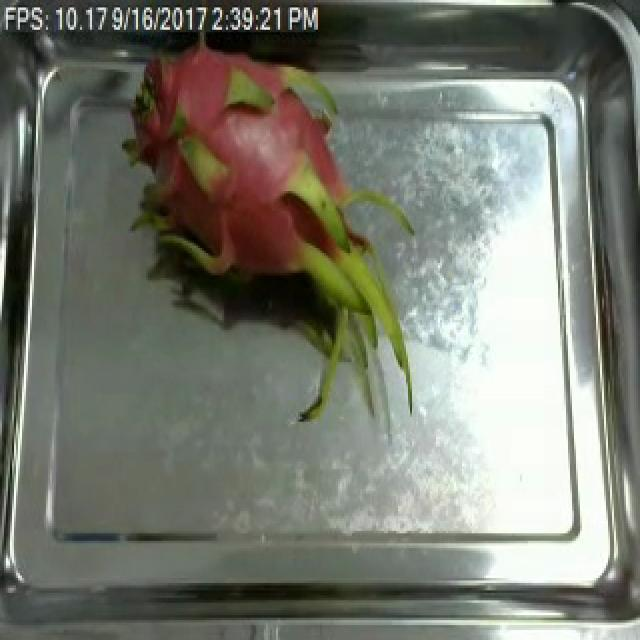fruit: (96, 2, 430, 335)
